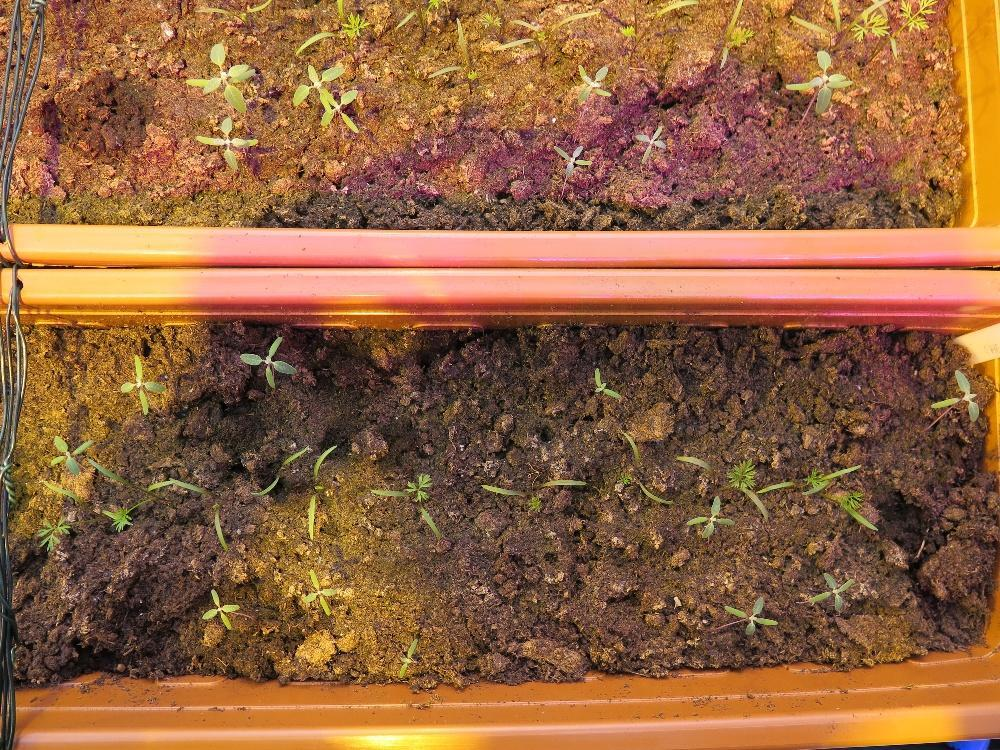weed: (180, 41, 255, 114), (193, 113, 260, 170), (236, 334, 297, 389), (117, 351, 166, 415), (929, 366, 981, 424), (721, 591, 779, 636), (684, 493, 736, 540), (805, 569, 854, 610), (199, 585, 241, 632), (300, 565, 337, 615), (574, 61, 610, 104), (633, 123, 668, 163), (552, 142, 593, 176), (591, 365, 625, 399), (396, 635, 417, 678)
